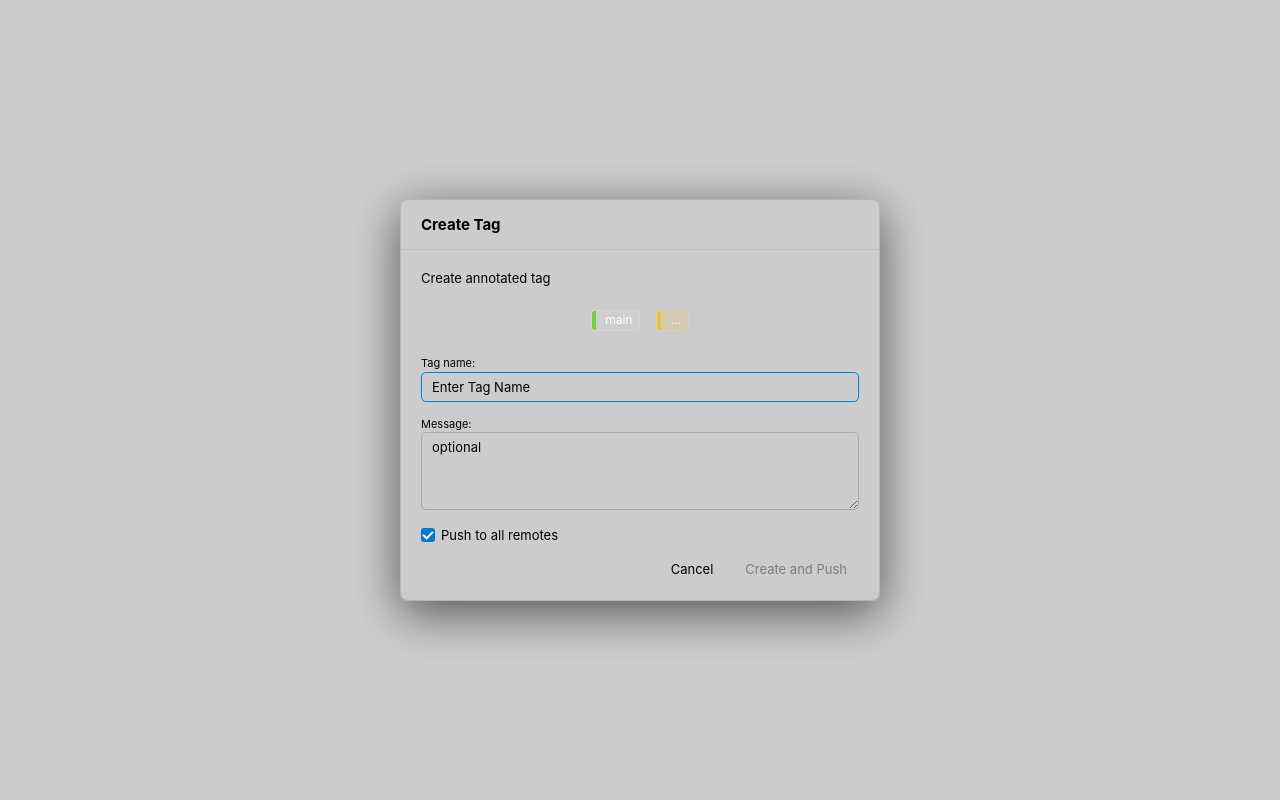
it: CreateTagModal › disables submit when tag name collides with an existing tag
Type "v1.0" into the field with id "create-tag-name" at (640, 387), box [421, 372, 859, 402]
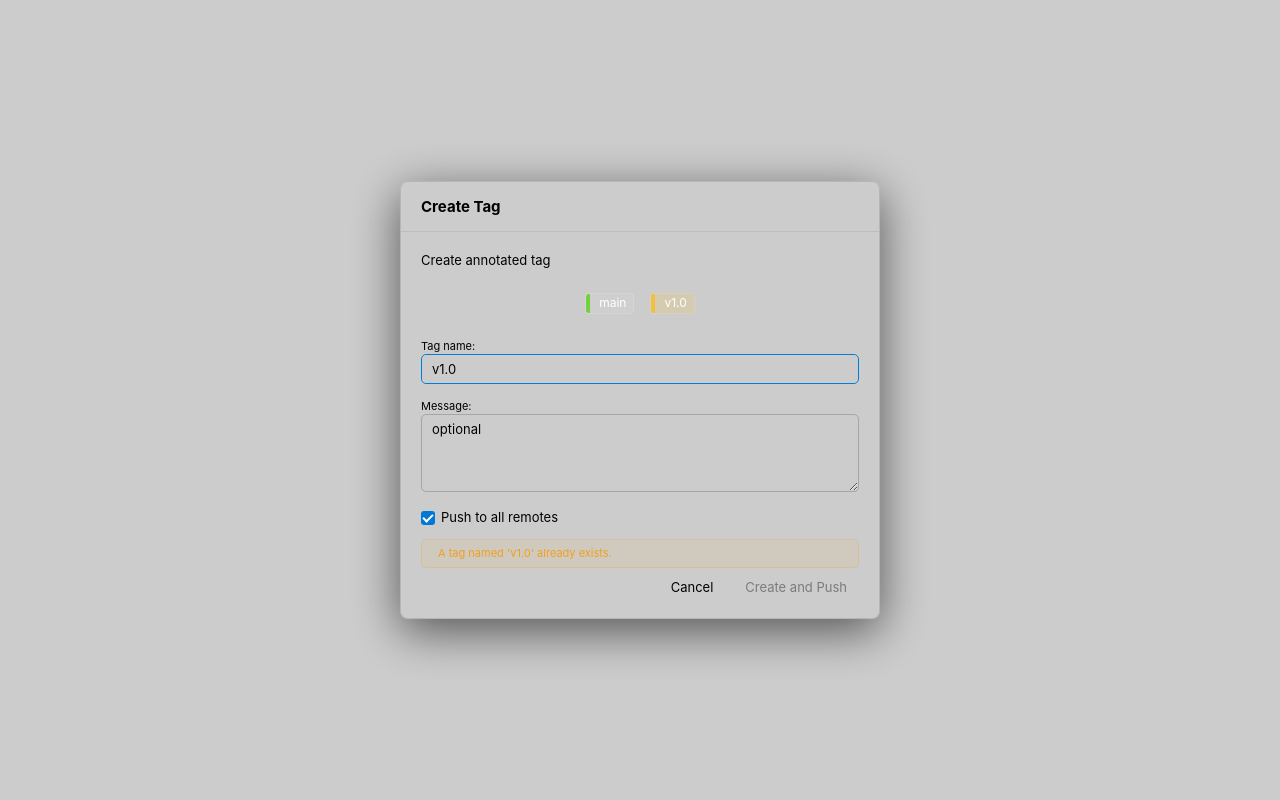
Expected: the button "Create and Push" is disabled, [733, 574, 859, 600]
Expected: the message "A tag named 'v1.0' already exists." is shown, [421, 539, 859, 568]
